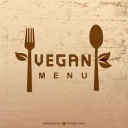Fork: (10, 17, 39, 93)
